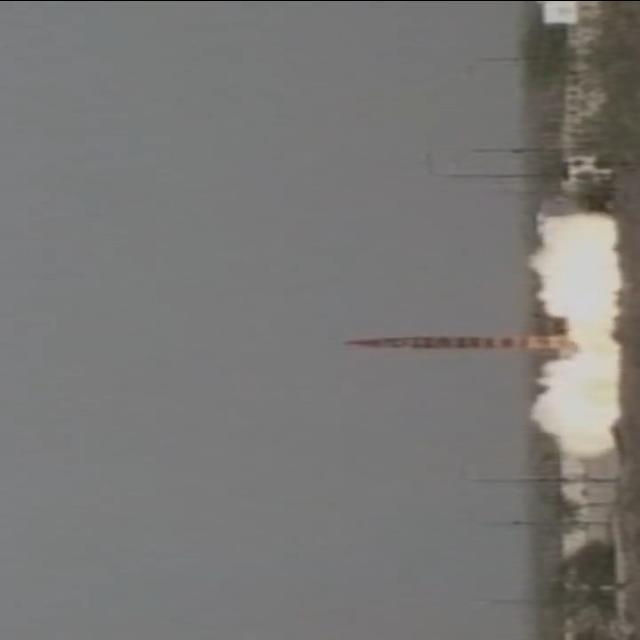missile: (334, 330, 567, 356)
